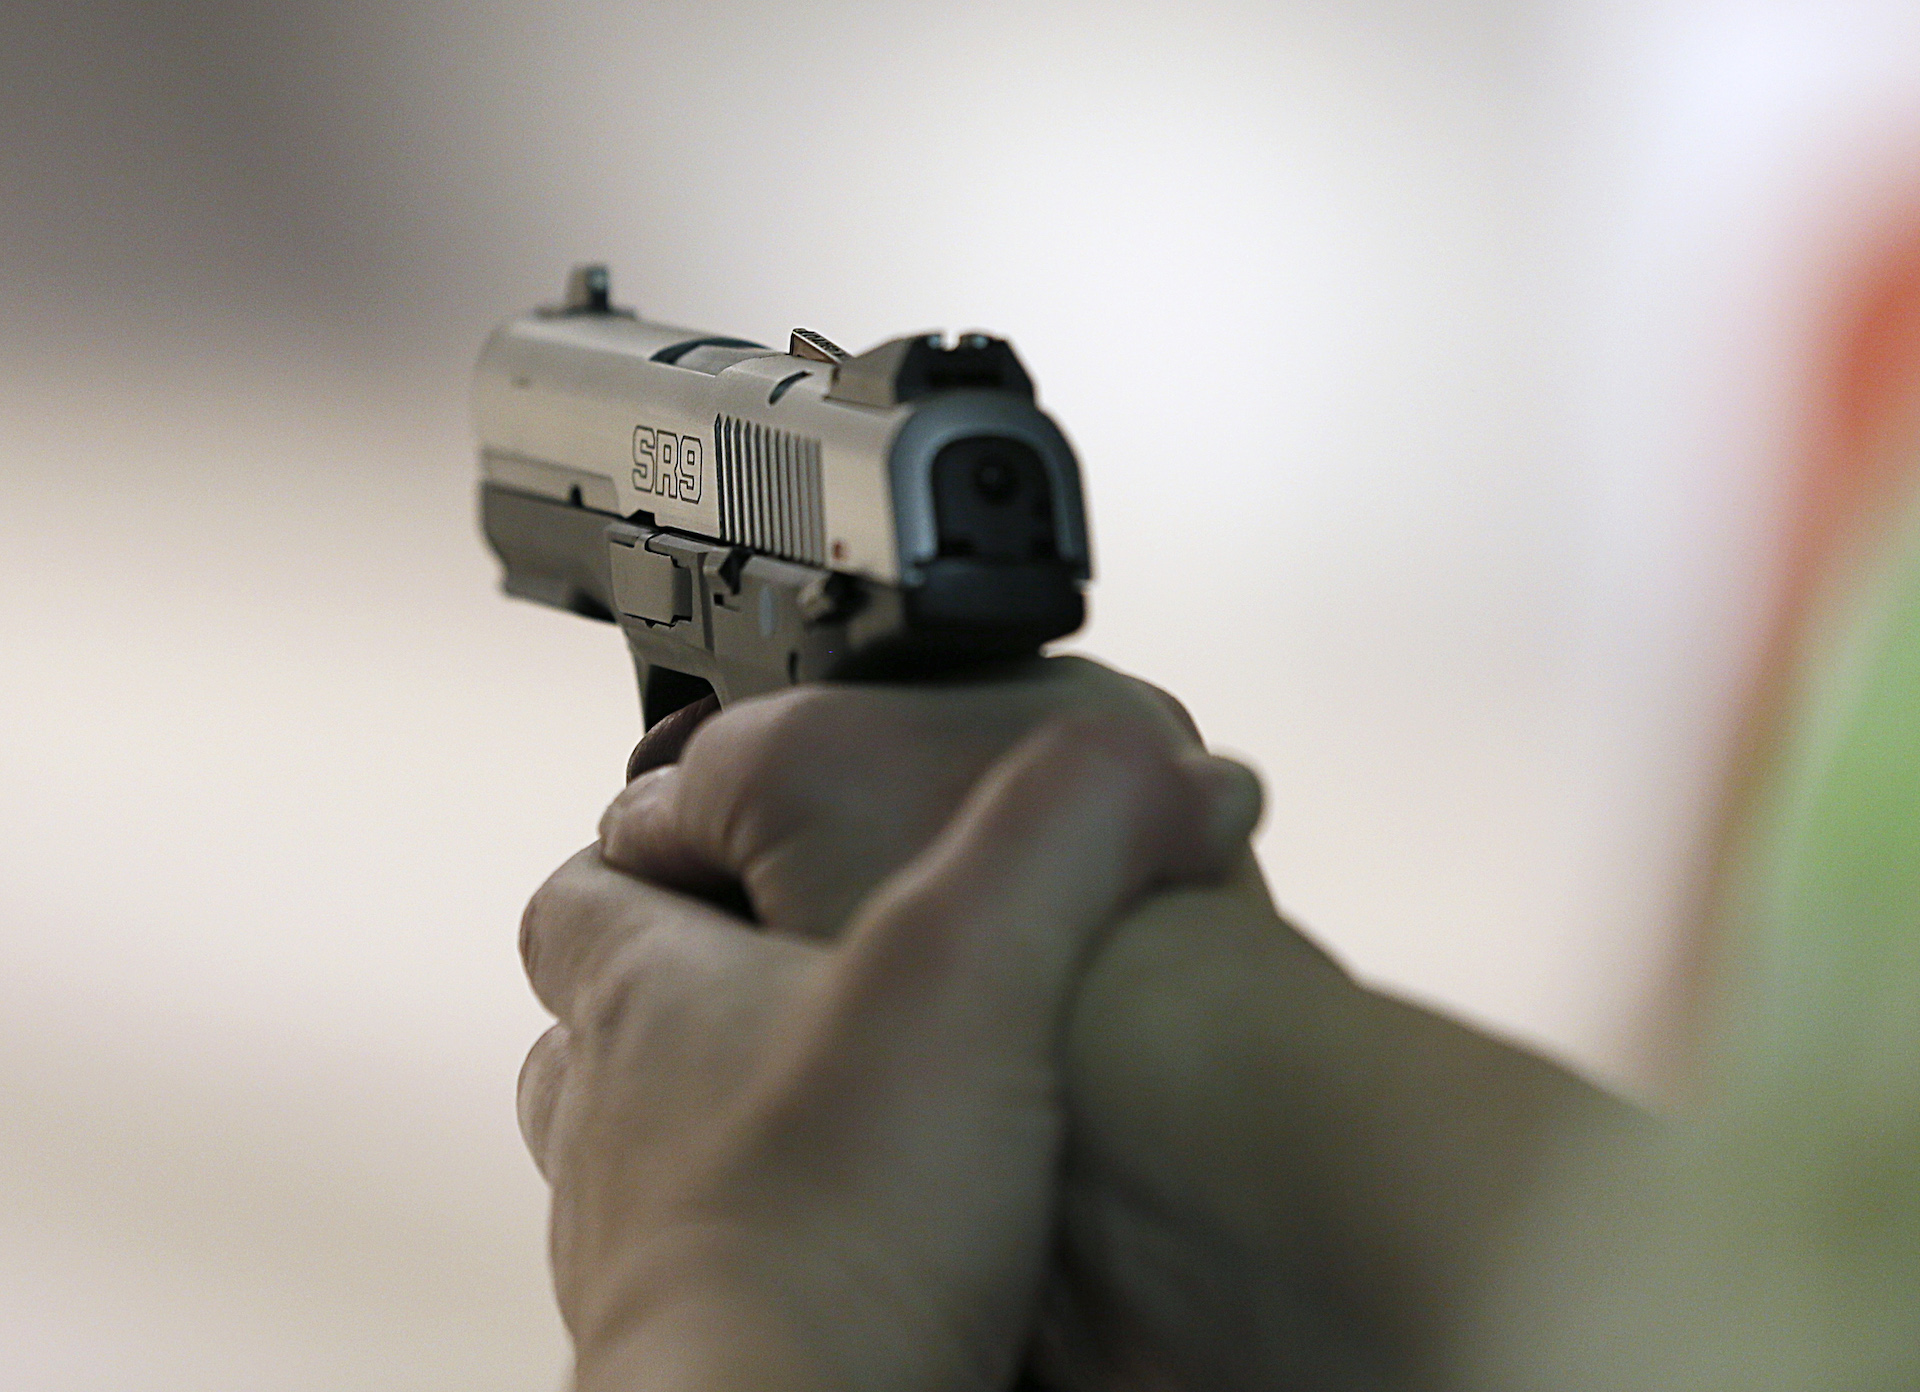pistol: (468, 256, 1105, 776)
